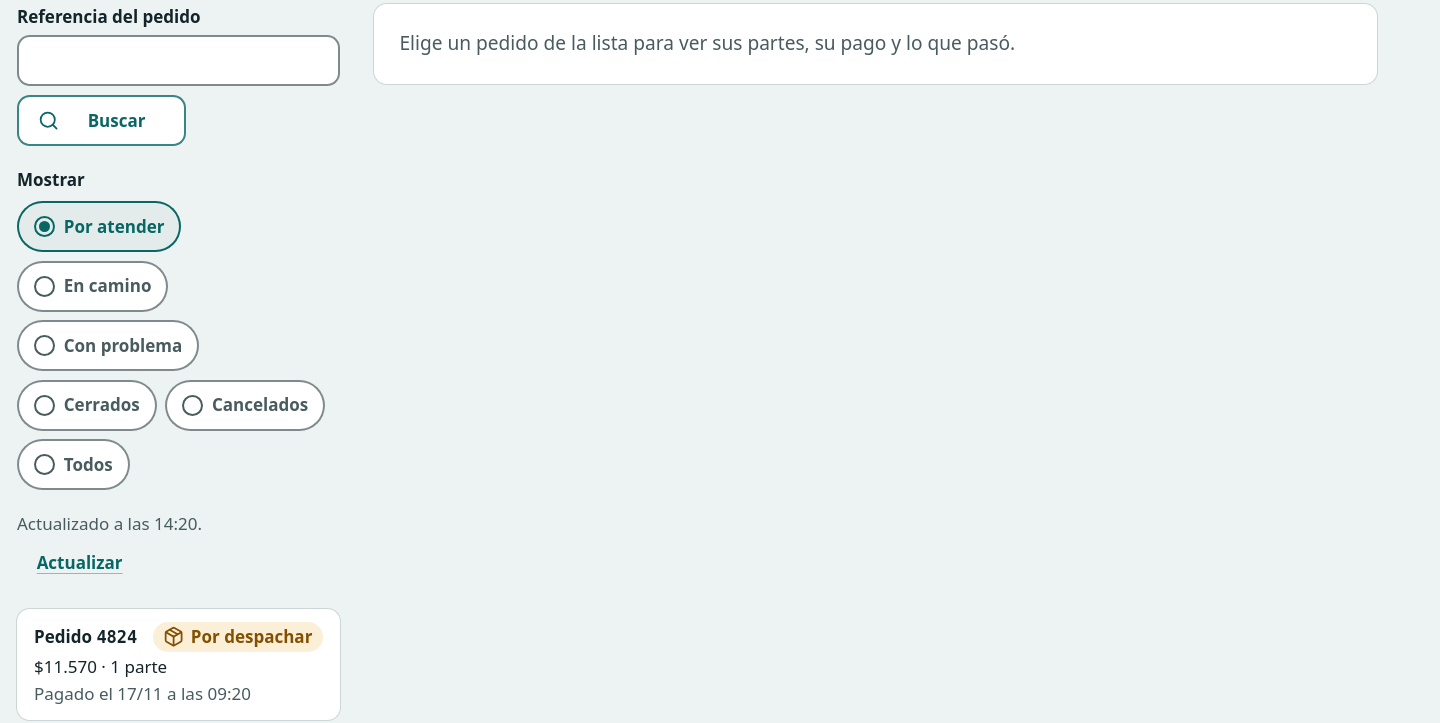
Retractos › 8.5 (v1.1): en el pedido, cada retracto lleva la etiqueta de su estado y el plazo
The image size is (1440, 723).
(page scrolled)
Click the radio button labelled "Cerrados" at [87, 405], box [17,380,157,431]
(page scrolled)
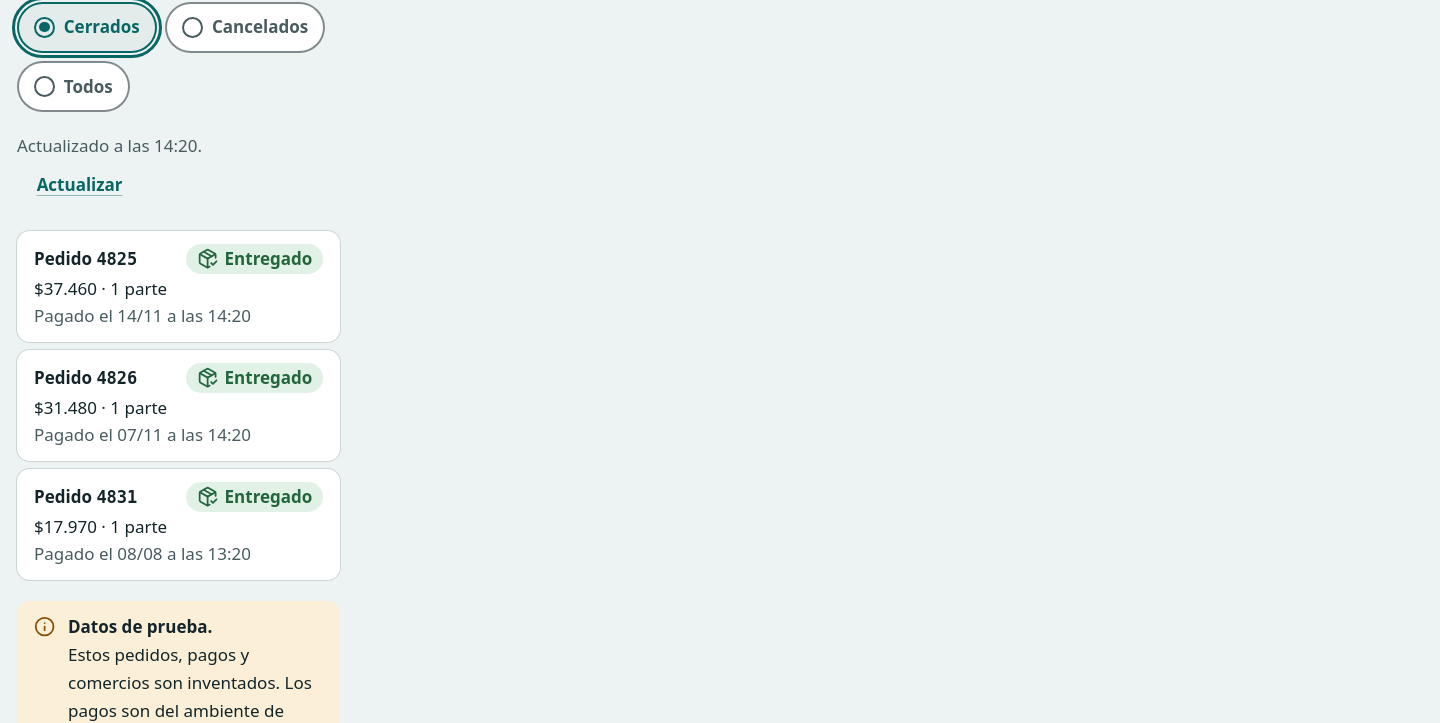
Click the button with aria-label "Pedido 4826, Entregado, $31.480, 1 parte, Pagado el 07/11 a" at [63, 377], box [17,350,340,461]
(page scrolled)
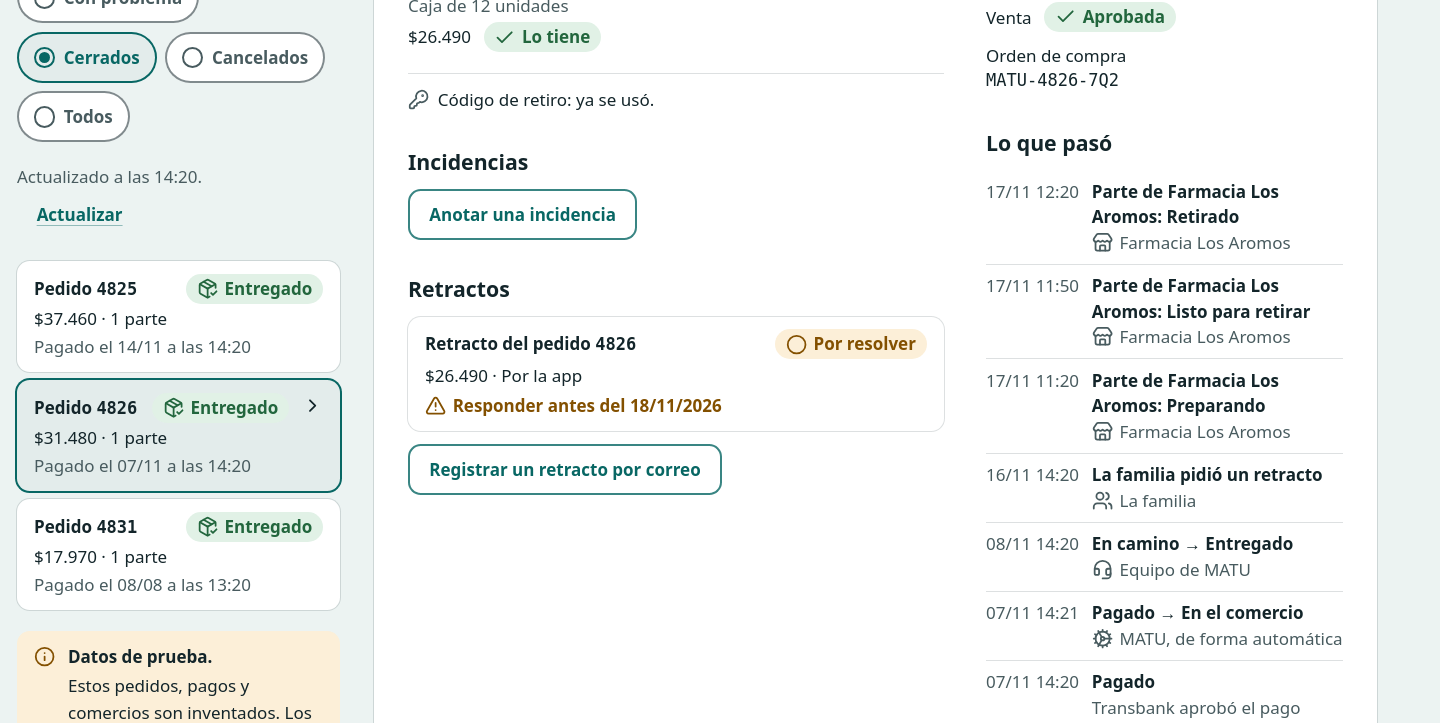
Check: the button "Retracto del pedido 4826" shows "Por resolver", box [408,316,944,431]
Check: the text "Responder antes del 18/11/2026" is shown, box [453,393,722,418]
